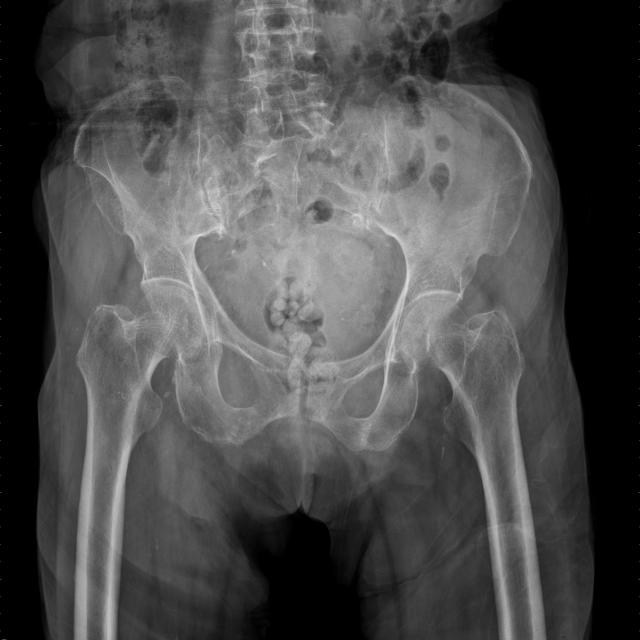normal-left: (402, 298, 537, 554)
normal-right: (76, 286, 204, 522)
